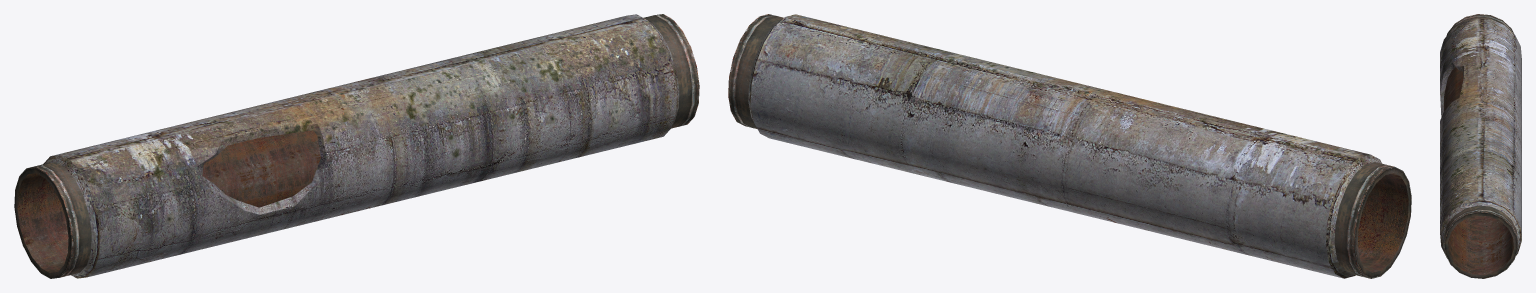
Rendered from truba_beton_02.fbx.
3 views of the same model, side by side, from view 1: azimuth 30°, elevation 25°; view 2: azimuth 150°, elevation 25°; view 3: azimuth 270°, elevation 25° (orthographic). The views are drawn at different scales.
Visible parts, largest first — view 1: truba_beton_02.object; view 2: truba_beton_02.object; view 3: truba_beton_02.object.
Boxes of the visible parts, x1,y1,x2,y2 form: truba_beton_02.object: (14,14,699,278); truba_beton_02.object: (728,14,1411,278); truba_beton_02.object: (1440,14,1521,278).
Bounding box in the file's own units: 753 × 132 × 132.
